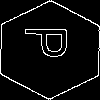P: (25, 25, 78, 59)
